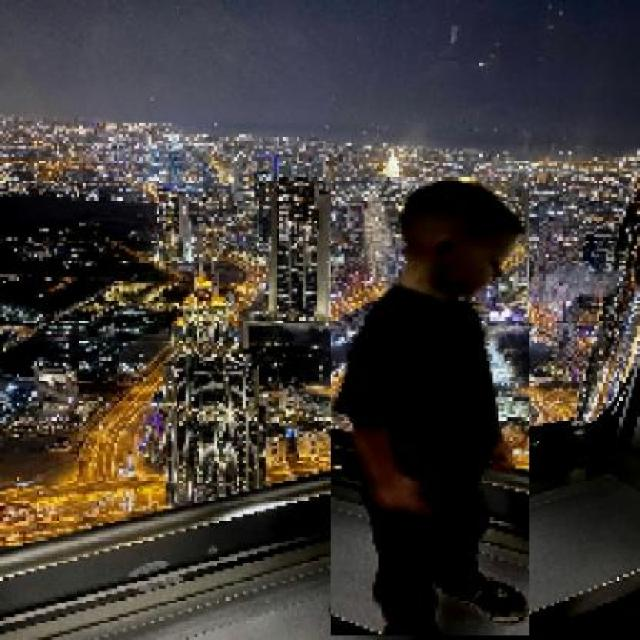child: (328, 177, 528, 637)
